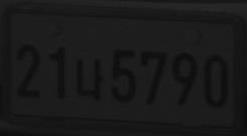0: (202, 53, 229, 108)
1: (47, 48, 71, 98)
2: (16, 44, 40, 98)
5: (110, 49, 137, 104)
7: (139, 50, 168, 105)
9: (170, 52, 199, 105)
나: (75, 57, 104, 102)
